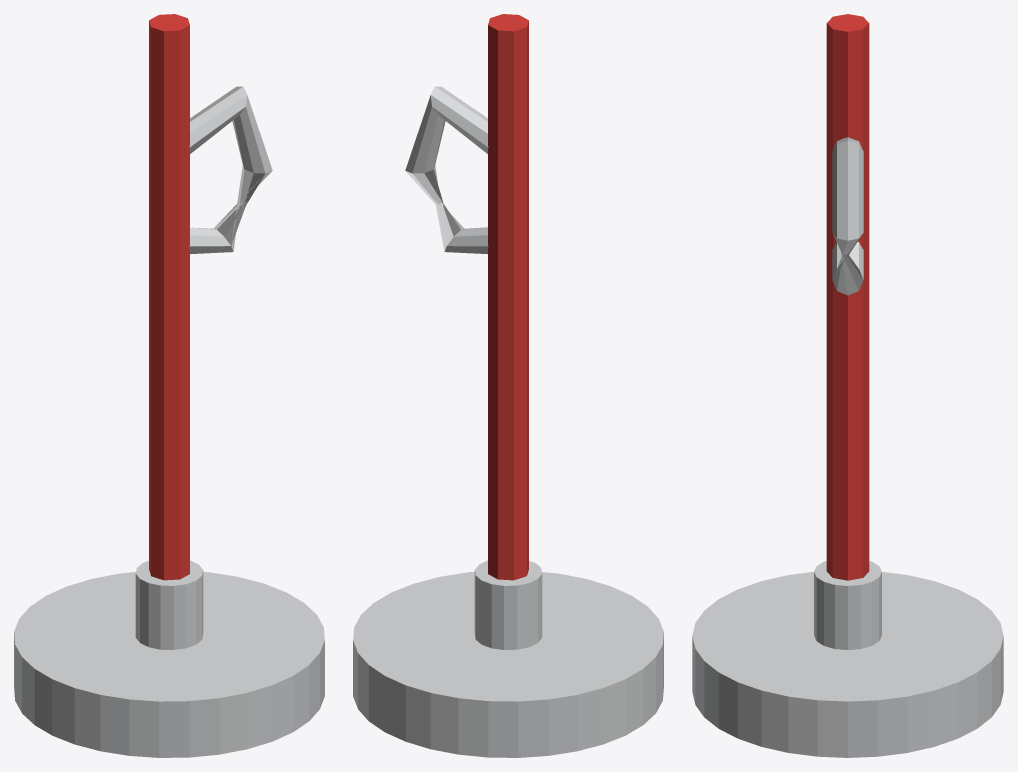
Rendered from imanConCuerda.fbx.
The picture shows the model from 3 angles, left to right: view 1: azimuth 30°, elevation 25°; view 2: azimuth 150°, elevation 25°; view 3: azimuth 270°, elevation 25°; orthographic projection.
Parts seen in each view (by area): view 1: Iman_Con_Cuerda; view 2: Iman_Con_Cuerda; view 3: Iman_Con_Cuerda.
Part boxes in pixels (x1,y1,x2,y2): Iman_Con_Cuerda: (14, 14, 324, 757); Iman_Con_Cuerda: (353, 14, 663, 757); Iman_Con_Cuerda: (692, 14, 1003, 757).
Bounding box in the file's own units: 110 × 261 × 110.
